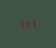eight: (25, 20, 30, 27)
five: (18, 20, 23, 28)
three: (31, 19, 36, 27)
